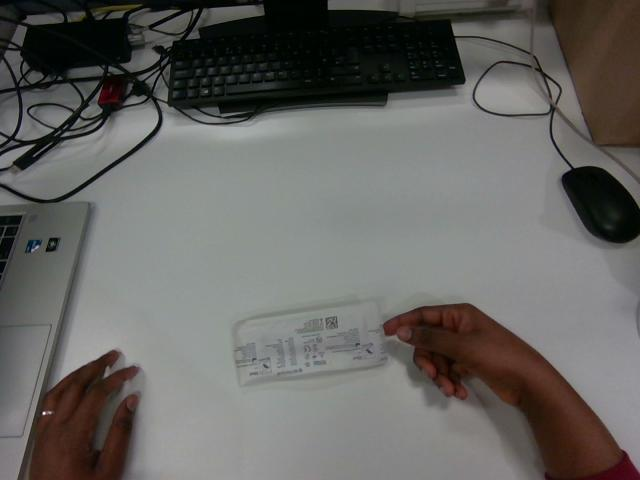syringe: (234, 301, 386, 384)
